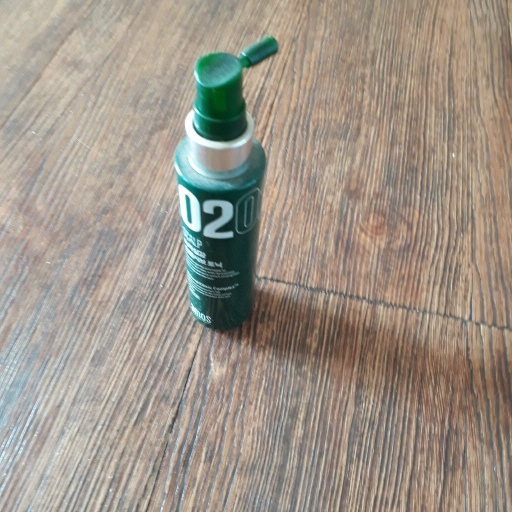Plastic_3: (161, 35, 276, 327)
